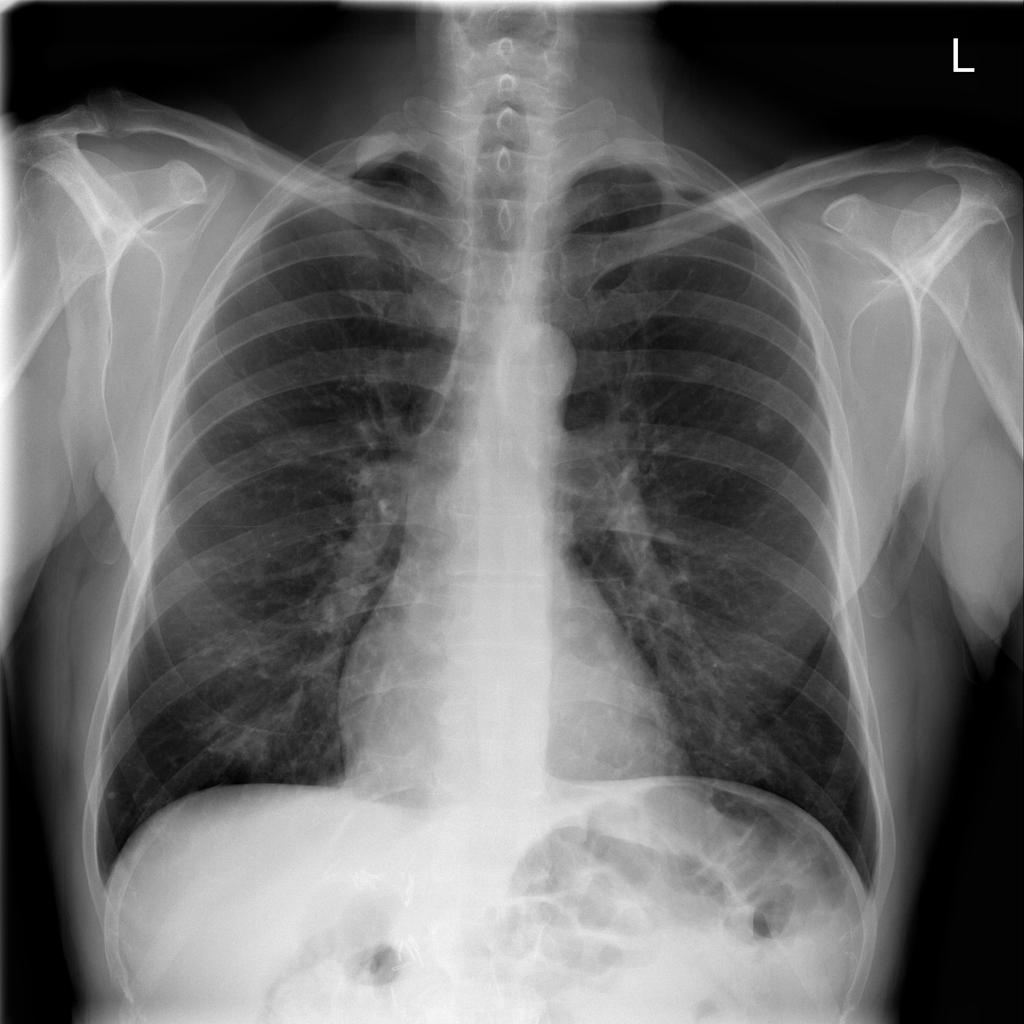nodule: (806, 742, 858, 792), (236, 400, 290, 448), (87, 768, 135, 822), (743, 394, 790, 448), (677, 346, 725, 398)
